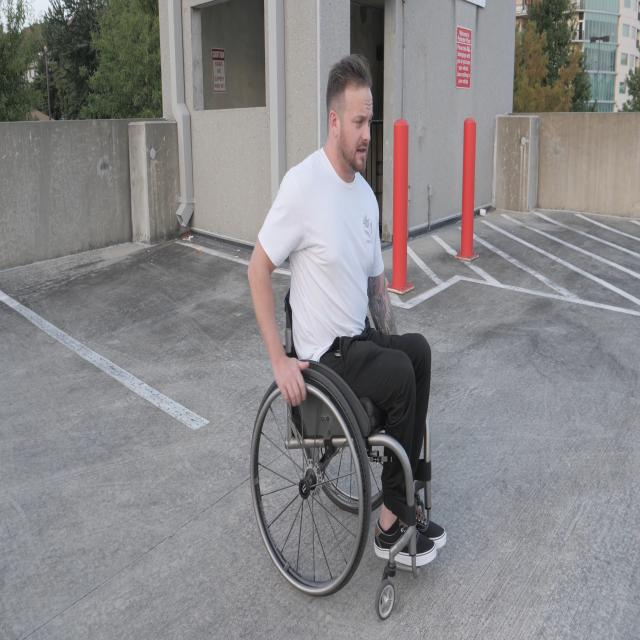wheelchairs: (249, 257, 433, 621)
